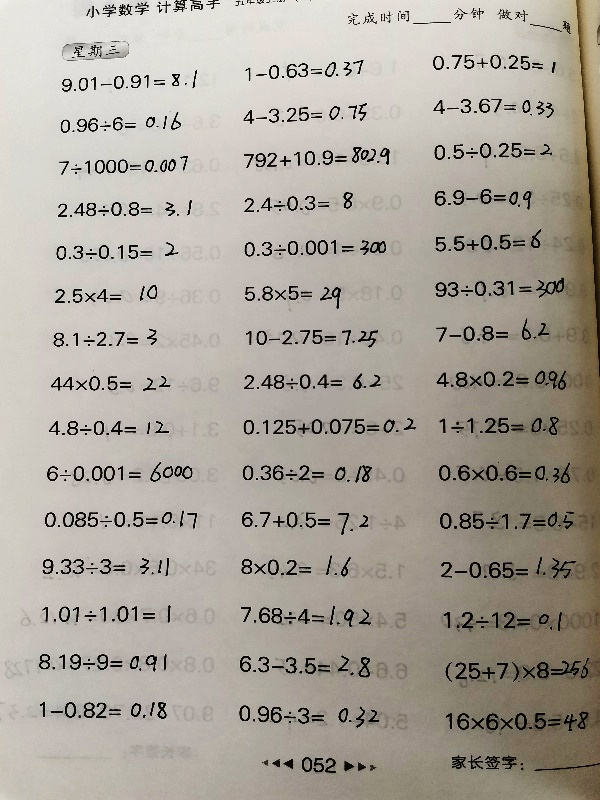equation: (238, 408, 419, 440), (441, 656, 592, 686), (235, 702, 385, 731), (441, 708, 600, 735), (43, 459, 197, 486), (240, 143, 393, 170), (235, 650, 374, 679), (434, 457, 573, 486), (237, 508, 371, 538), (438, 554, 580, 582), (41, 508, 201, 532), (237, 601, 374, 629), (431, 275, 567, 303), (432, 365, 569, 392), (241, 324, 381, 350), (237, 551, 358, 581), (240, 235, 390, 259), (436, 508, 578, 533), (58, 68, 200, 93), (35, 650, 171, 676), (431, 315, 552, 344), (239, 462, 376, 487), (37, 698, 171, 723), (240, 370, 384, 393), (240, 189, 358, 217), (54, 154, 191, 178), (437, 413, 563, 439), (239, 101, 370, 126), (428, 50, 559, 75), (440, 607, 565, 633), (54, 197, 195, 220), (40, 602, 175, 626), (56, 110, 184, 135), (429, 94, 557, 119), (39, 555, 178, 578), (51, 280, 161, 308), (430, 138, 555, 162), (241, 58, 366, 82), (241, 281, 344, 310), (52, 240, 181, 263), (431, 228, 545, 254), (46, 417, 173, 440), (48, 372, 174, 395), (430, 184, 534, 211), (49, 326, 160, 350)
